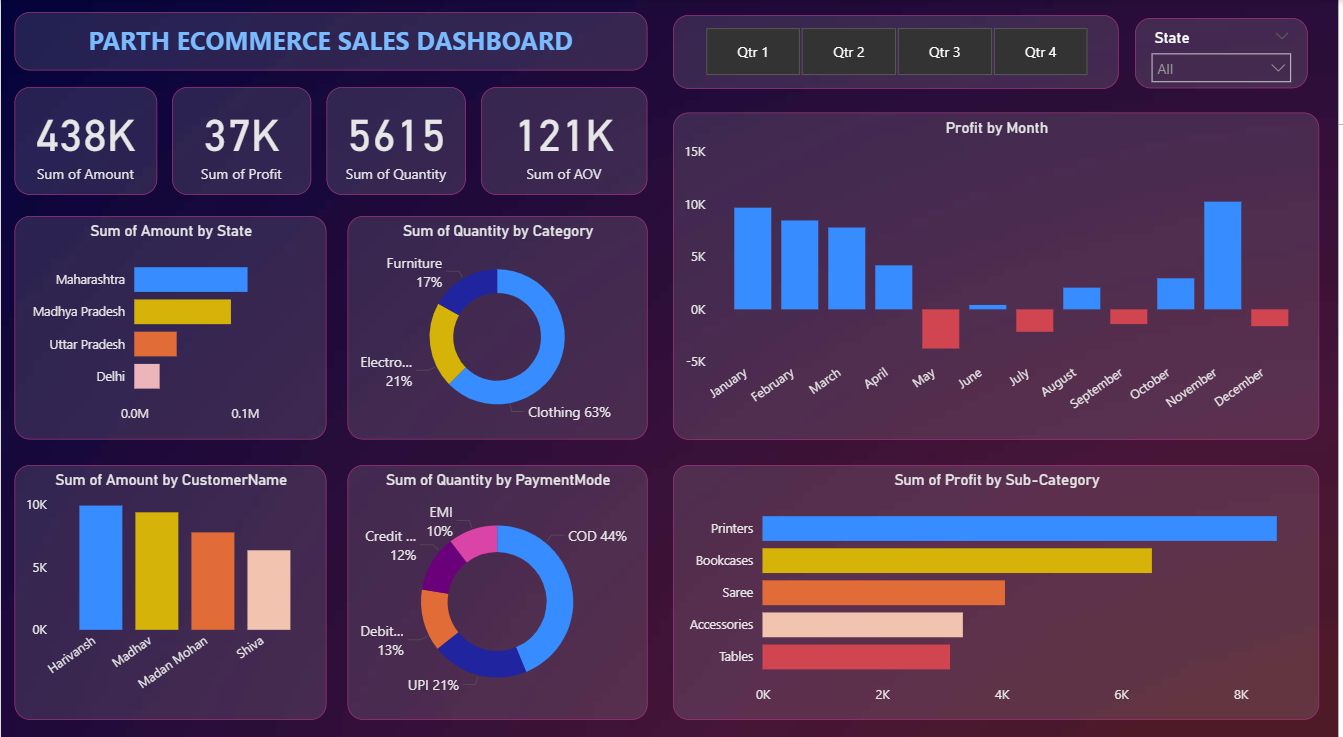

What the dashboard file says about the page in this screenshot:
{"tool":"powerbi","page":{"name":"Page 1","canvas":[1280,720],"ordinal":0},"visuals":[{"type":"textbox","box":[12.9,11.5,606,56],"z":0},{"type":"columnChart","title":"Profit by Month","fields":{"Category":["Orders.Order Date.Variation.Date Hierarchy.Month"],"Y":["Sum(Details.Profit)"]},"box":[643.4,107.7,618.9,313.1],"z":1000},{"type":"barChart","fields":{"Category":["Details.Sub-Category"],"Y":["Sum(Details.Profit)"]},"box":[643.4,445.2,618.9,244.1],"z":2000},{"type":"donutChart","fields":{"Category":["Details.Category"],"Y":["Sum(Details.Quantity)"]},"box":[331.7,206.8,287.2,214],"z":3000},{"type":"donutChart","fields":{"Y":["Sum(Details.Quantity)"],"Category":["Details.PaymentMode"]},"box":[331.7,445.2,287.2,244.1],"z":4000},{"type":"card","fields":{"Values":["Sum(Details.Amount)"]},"box":[12.9,83.3,136.4,103.4],"z":5000},{"type":"card","fields":{"Values":["Sum(Details.Quantity)"]},"box":[311.6,83.3,133.6,103.4],"z":6000},{"type":"card","fields":{"Values":["Sum(Details.Profit)"]},"box":[163.7,83.3,133.6,103.4],"z":7000},{"type":"card","fields":{"Values":["Sum(Details.AOV)"]},"box":[459.5,83.3,159.4,103.4],"z":8000},{"type":"barChart","fields":{"Category":["Orders.State"],"Y":["Sum(Details.Amount)"]},"box":[12.9,206.8,298.7,214],"z":9000},{"type":"columnChart","fields":{"Category":["Orders.CustomerName"],"Y":["Sum(Details.Amount)"]},"box":[12.9,445.2,298.7,244.1],"z":10000},{"type":"slicer","fields":{"Values":["Orders.Order Date.Variation.Date Hierarchy.Quarter"]},"box":[643.4,14.4,426.5,70.4],"z":11000},{"type":"slicer","fields":{"Values":["Orders.State"]},"box":[1085.7,17.2,165.1,67.5],"z":12000}]}

Visuals, with their boxes in screenshot pixels (x1, y1, x2, y2), scaled from the page's 1280x720 canvas onto the 1343x737 screenshot:
textbox: l=14, t=12, r=649, b=69
"Profit by Month" columnChart: l=675, t=110, r=1324, b=431
barChart - Details.Sub-Category x Sum(Details.Profit): l=675, t=456, r=1324, b=706
donutChart - Details.Category x Sum(Details.Quantity): l=348, t=212, r=649, b=431
donutChart - Sum(Details.Quantity) x Details.PaymentMode: l=348, t=456, r=649, b=706
card - Sum(Details.Amount): l=14, t=85, r=157, b=191
card - Sum(Details.Quantity): l=327, t=85, r=467, b=191
card - Sum(Details.Profit): l=172, t=85, r=312, b=191
card - Sum(Details.AOV): l=482, t=85, r=649, b=191
barChart - Orders.State x Sum(Details.Amount): l=14, t=212, r=327, b=431
columnChart - Orders.CustomerName x Sum(Details.Amount): l=14, t=456, r=327, b=706
slicer - Orders.Order Date.Variation.Date Hierarchy.Quarter: l=675, t=15, r=1123, b=87
slicer - Orders.State: l=1139, t=18, r=1312, b=87
